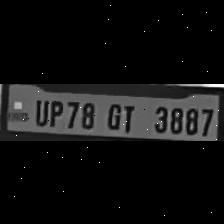3: (148, 102, 168, 132)
7: (62, 97, 79, 127), (197, 104, 214, 134)
8: (78, 98, 98, 128), (166, 102, 184, 134), (182, 104, 200, 134)
D: (102, 97, 120, 130)
P: (46, 98, 64, 127)
T: (119, 96, 139, 130)
U: (31, 96, 49, 124)
